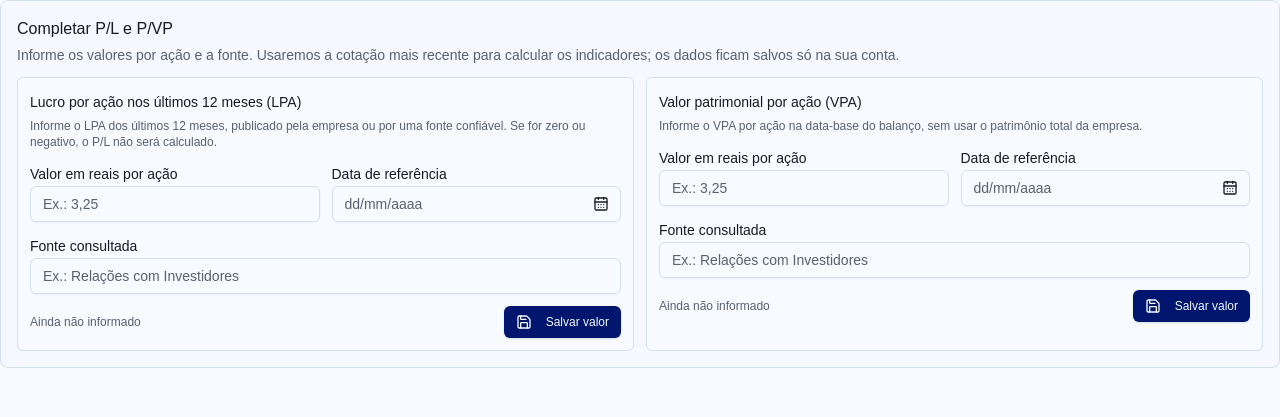
Test: ManualStockValuationInputs › shows the client-safe save failure returned by the API client
Check: the heading "Completar P/L e P/VP" is shown, box [17,20,173,37]
Step 1. Type "3.25" into the number field labelled "Lucro por ação nos últimos 12 meses (LPA)" → (175, 204), box [30,186,320,222]
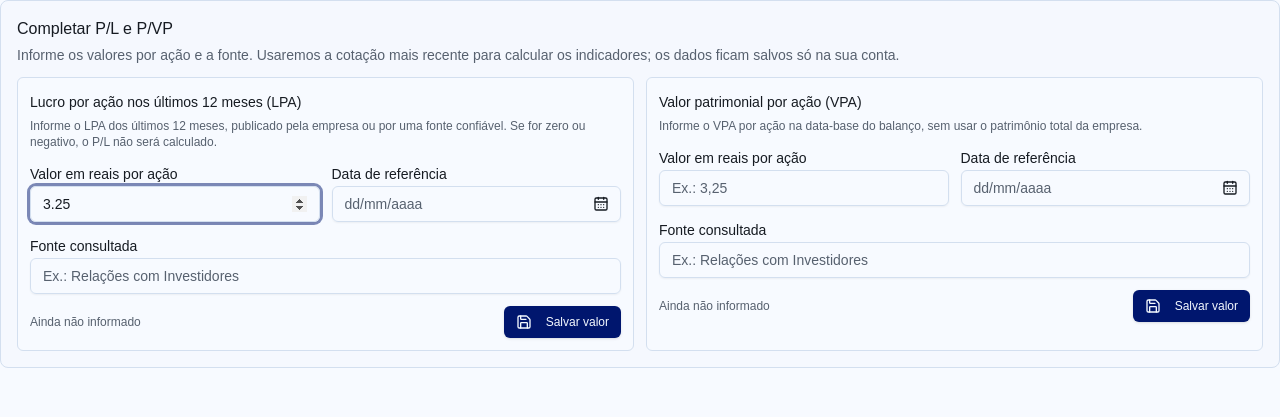
Step 2. Type "Fonte oficial" into the 2nd field labelled "Fonte consultada" → (326, 276), box [30,258,621,294]
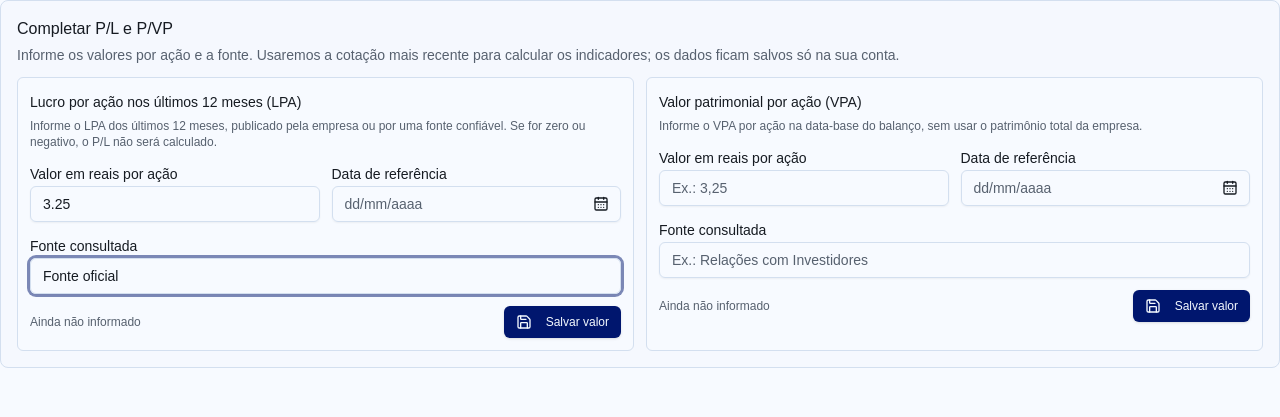
Step 3. Type "31/12/2025" into the 2nd field with placeholder "dd/mm/aaaa" → (476, 204), box [332,186,621,222]
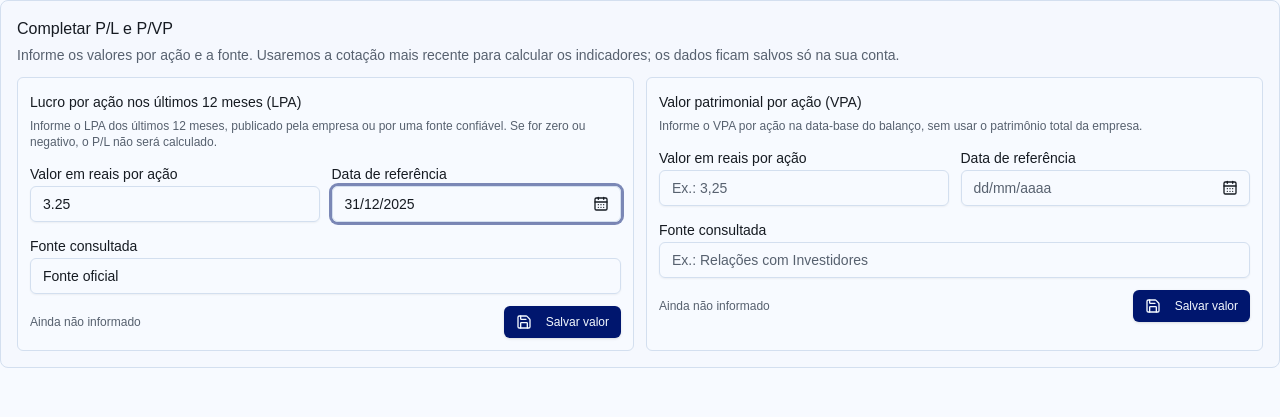
Step 4. Click the 2nd button "Salvar valor" → click(562, 322), box [504,306,621,338]
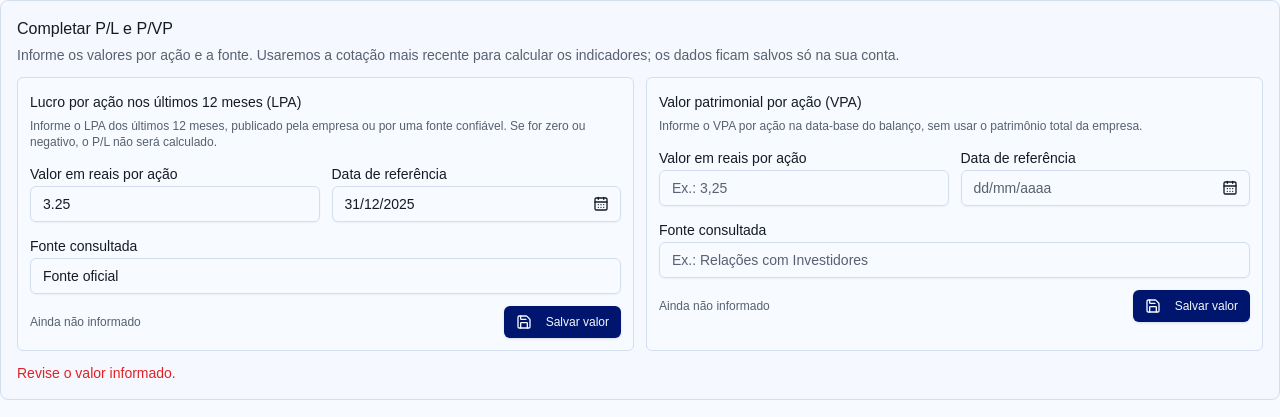
Check: the message reads "Revise o valor informado.", box [17,365,176,381]
